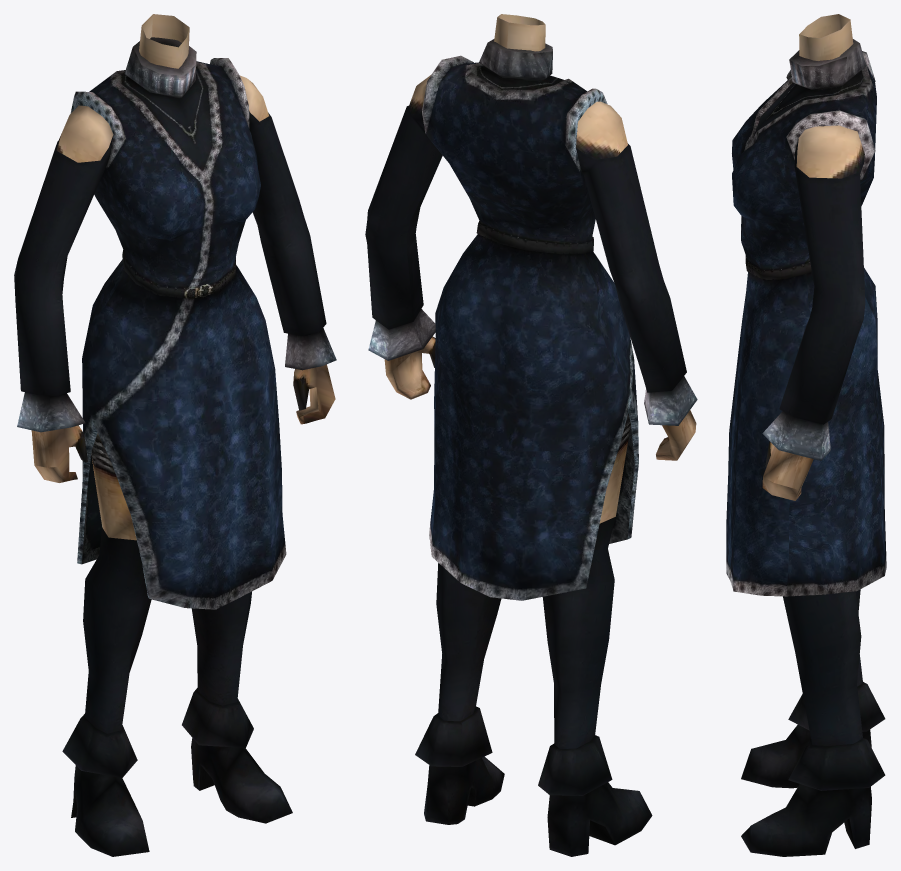
Rendered from HUM_ARMOR_DRESS_05.glb.
3 views of the same model, side by side, from view 1: azimuth 30°, elevation 25°; view 2: azimuth 150°, elevation 25°; view 3: azimuth 270°, elevation 25° (orthographic). The views are drawn at different scales.
Parts seen in each view (by area): view 1: HUM_ARMOR_DRESS_05; view 2: HUM_ARMOR_DRESS_05; view 3: HUM_ARMOR_DRESS_05.
Boxes of the visible parts, x1,y1,x2,y2 form: HUM_ARMOR_DRESS_05: [14, 14, 336, 856]; HUM_ARMOR_DRESS_05: [365, 14, 697, 856]; HUM_ARMOR_DRESS_05: [726, 14, 886, 856].
Bounding box in the file's own units: 0.6694 × 1.67 × 0.307.
2 materials, 2 textured.
